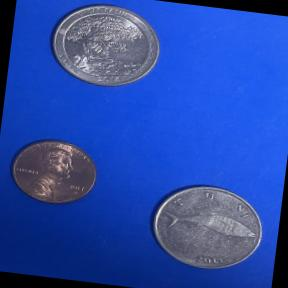coin: (138, 174, 274, 282), (41, 0, 167, 96), (2, 130, 106, 214)
